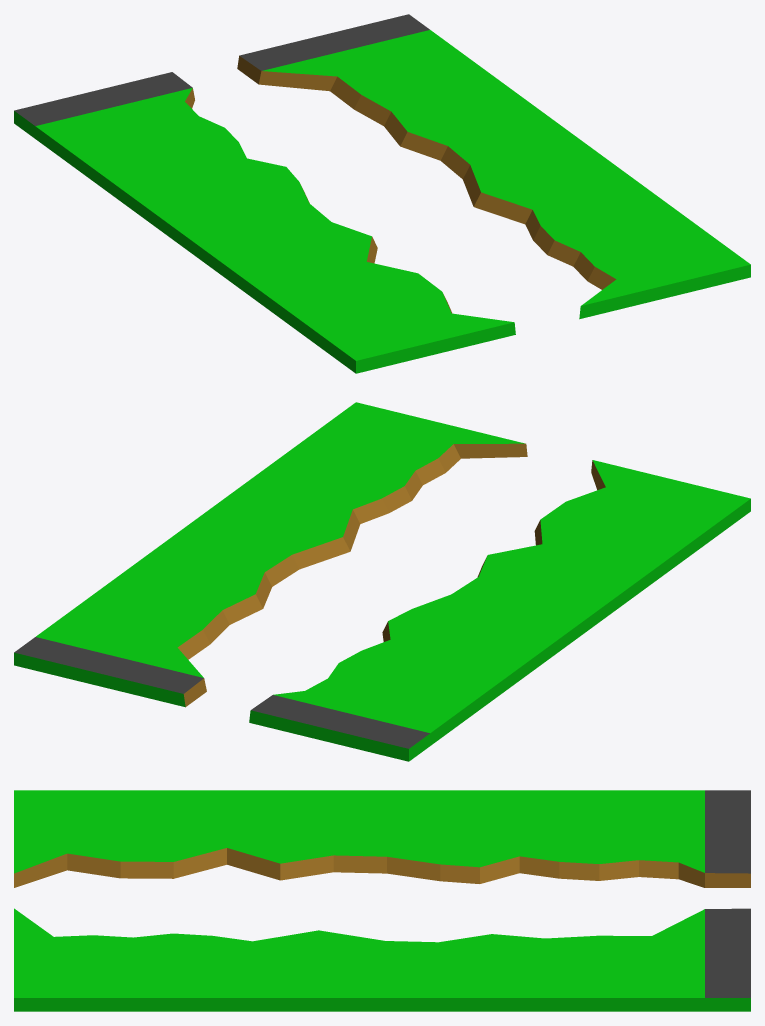
Rendered from ground_01_04.fbx.
3 renders of one model, top to bottom at view 1: azimuth 30°, elevation 25°; view 2: azimuth 150°, elevation 25°; view 3: azimuth 270°, elevation 25°, orthographic. The views are drawn at different scales.
Visible parts, largest first — view 1: Cube; view 2: Cube; view 3: Cube.
Boxes of the visible parts, <box> form: Cube: <box>14,14,750,373</box>; Cube: <box>14,402,750,761</box>; Cube: <box>14,790,750,1011</box>.
Size of the model in its own units: 74.66 by 2.32 by 112.
